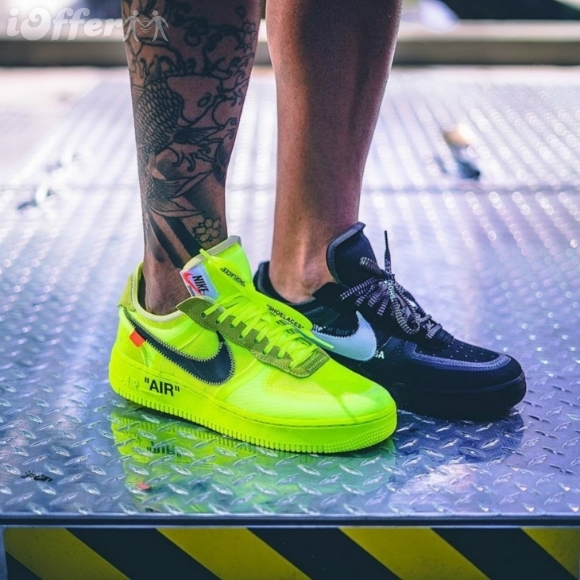Air Force One Volt: (93, 235, 407, 455)
